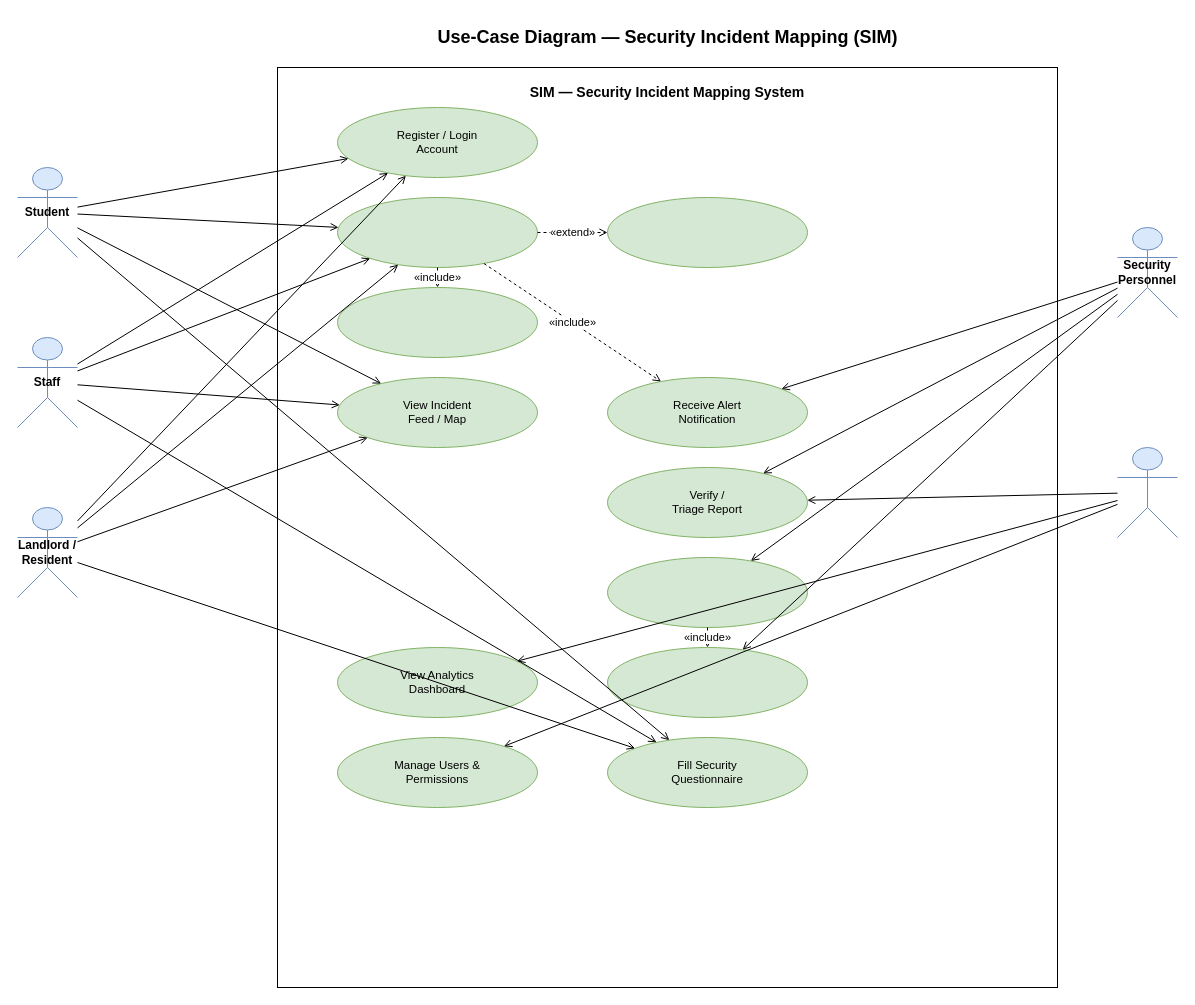
Some shapes in this 1195 by 1005 pixel diagram are drawn without their labels. Here are the shapes that lost their labels. From the top down, the centre of each, then its label:
[437,232]: Report Security Incident
[707,232]: Submit Report Anonymously
[437,322]: Attach Location & Evidence
[1147,492]: System Admin
[707,592]: Respond to Incident
[707,682]: Update Incident Status
